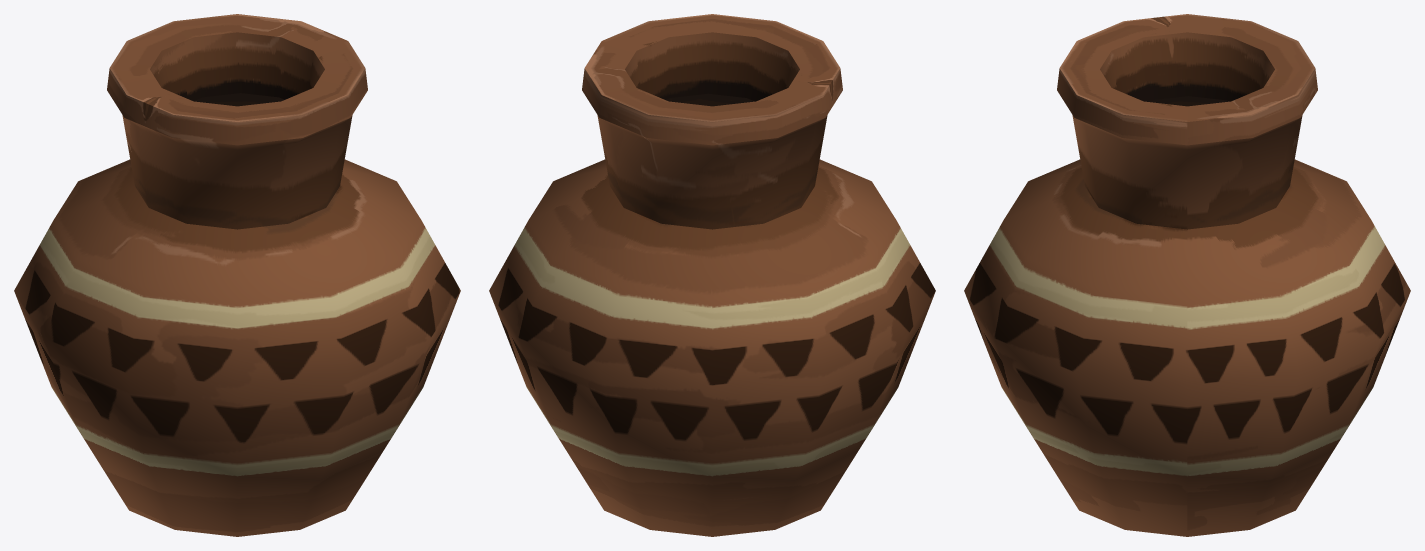
Rendered from SM_PROP_pot_dungeon_03.fbx.
3 renders of one model, left to right at view 1: azimuth 30°, elevation 25°; view 2: azimuth 150°, elevation 25°; view 3: azimuth 270°, elevation 25°, orthographic.
Parts seen in each view (by area): view 1: SM_PROP_pot_dungeon_03; view 2: SM_PROP_pot_dungeon_03; view 3: SM_PROP_pot_dungeon_03.
Boxes of the visible parts, x1=… form: SM_PROP_pot_dungeon_03: x1=14, y1=14, x2=460, y2=536; SM_PROP_pot_dungeon_03: x1=489, y1=14, x2=935, y2=536; SM_PROP_pot_dungeon_03: x1=964, y1=14, x2=1410, y2=536.
Size of the model in its own units: 50.62 by 52 by 50.62.
